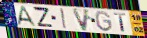A: (16, 5, 37, 27)
G: (95, 10, 115, 33)
I: (59, 8, 69, 30)
T: (113, 13, 129, 33)
V: (71, 7, 91, 32)
Z: (32, 6, 54, 29)
